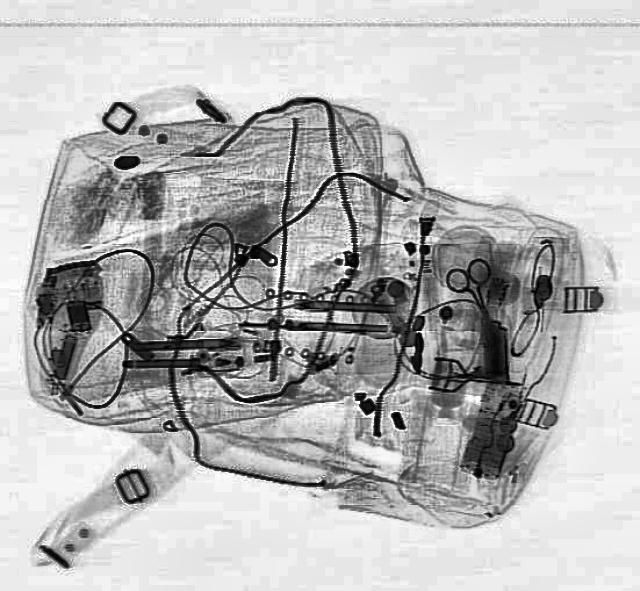Scissors: (438, 255, 508, 329)
